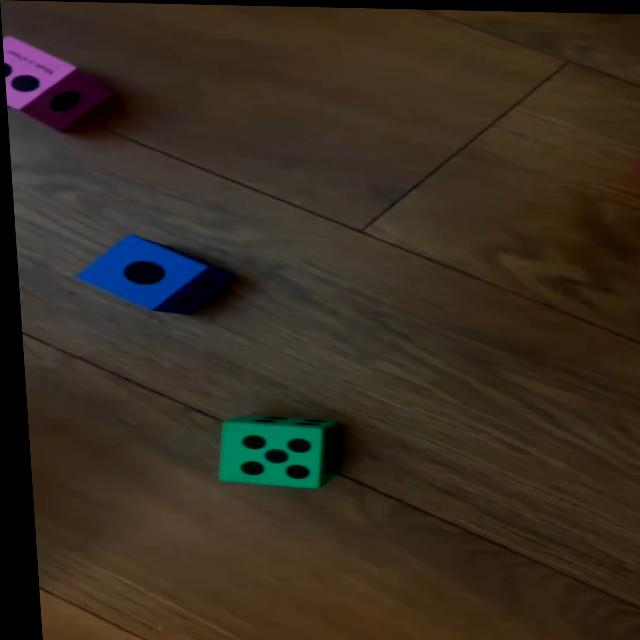blue_block: (72, 233, 228, 314)
